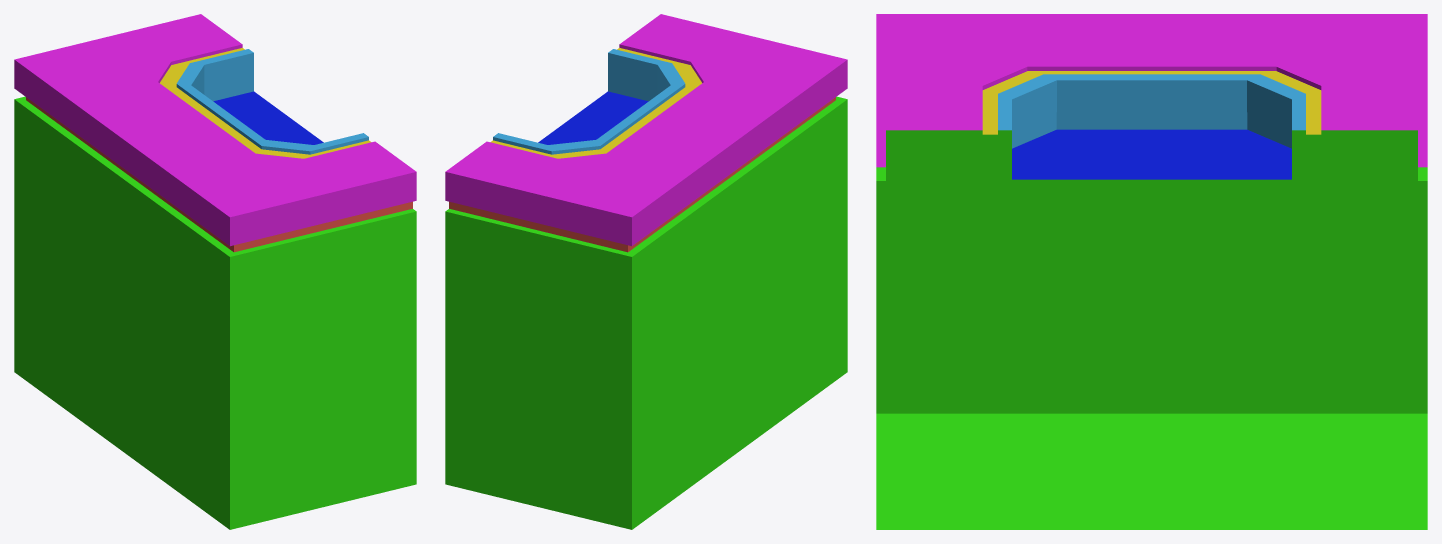
File: Flower_Bed_04_Edge.fbx
3 views of the same model, side by side, from view 1: azimuth 30°, elevation 25°; view 2: azimuth 150°, elevation 25°; view 3: azimuth 270°, elevation 25° (orthographic). The views are drawn at different scales.
Parts seen in each view (by area): view 1: Flower_Bed_04_Edge; view 2: Flower_Bed_04_Edge; view 3: Flower_Bed_04_Edge.
Part boxes in pixels (x1,y1,x2,y2): Flower_Bed_04_Edge: (14,14,416,529); Flower_Bed_04_Edge: (445,14,847,529); Flower_Bed_04_Edge: (876,14,1427,529).
Bounding box in the file's own units: 57.15 × 91.44 × 114.
